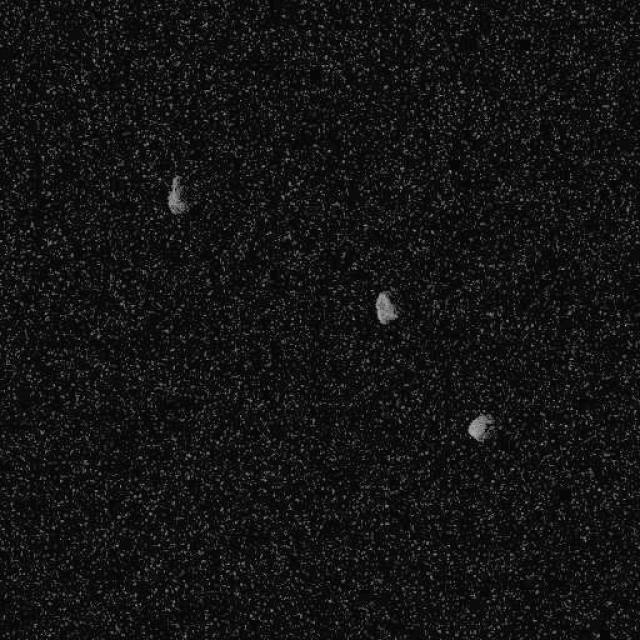D2: (165, 174, 189, 215), (373, 290, 398, 325), (466, 412, 494, 442)
